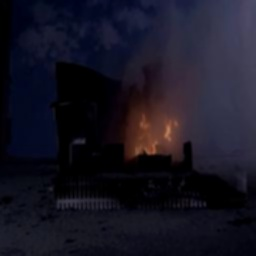fire: (122, 99, 180, 159)
smoke: (178, 0, 255, 101)
